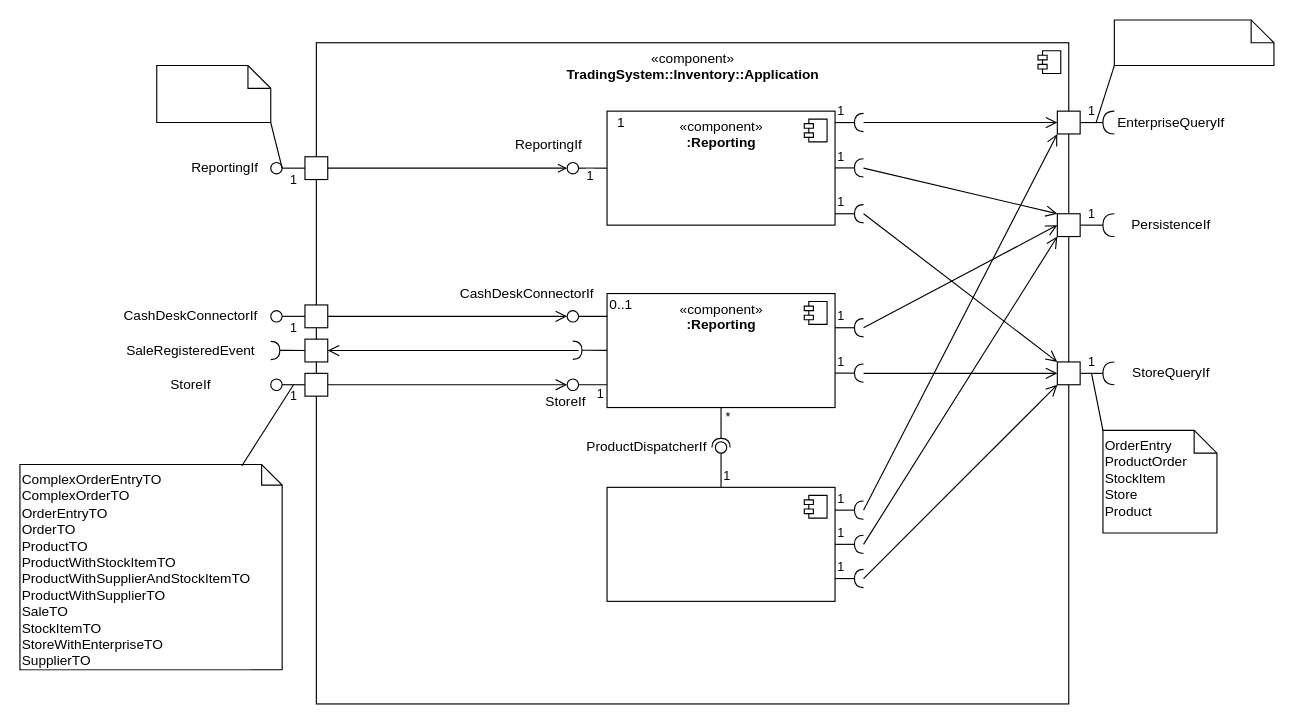
The diagram is 1294 pixels wide and 724 high, and some of its shapes have lost their labels. The shapes that lost their labels are listed below. From the top down, each one's centre as x and y in pixels, then its label:
pixel 1193 42: TradingEnterprise ProductSupplier
pixel 213 93: StoreTO EnterpriseTO ReportTO
pixel 720 543: «component» :ProductDispatcher
